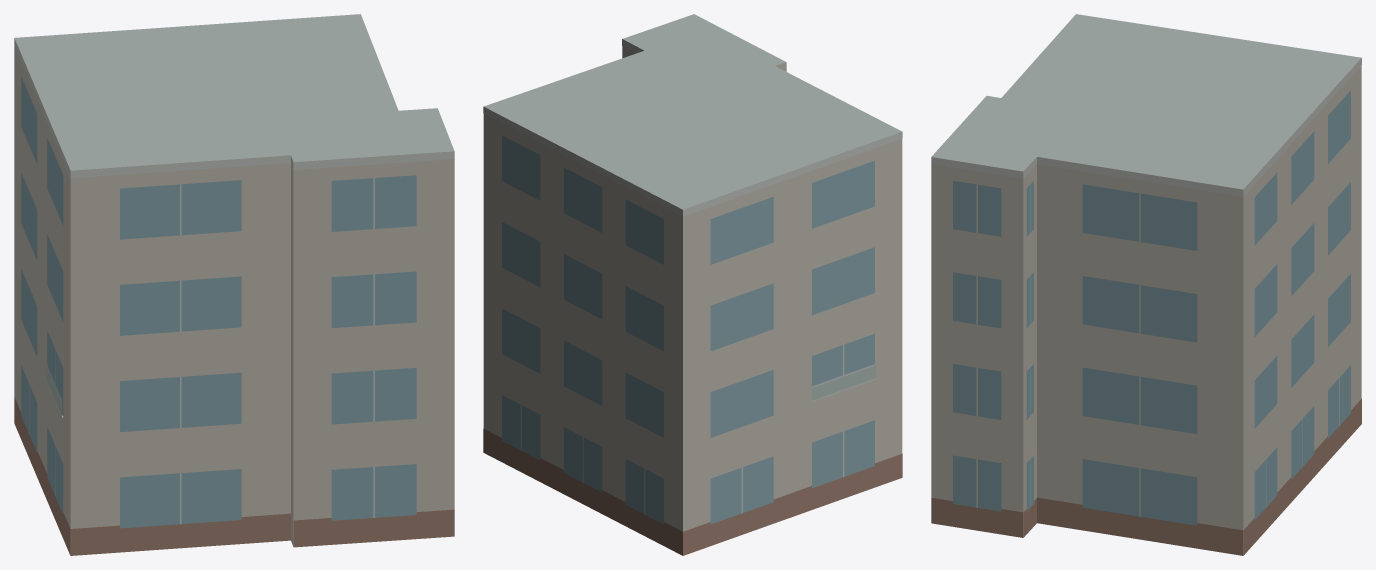
The model's file is survey-upis-32668390.glb.
The picture shows the model from 3 angles, left to right: view 1: azimuth 30°, elevation 25°; view 2: azimuth 150°, elevation 25°; view 3: azimuth 270°, elevation 25°; orthographic projection. The views are drawn at different scales.
Parts seen in each view (by area): view 1: survey-upis-32668390.tmp; view 2: survey-upis-32668390.tmp; view 3: survey-upis-32668390.tmp.
Part boxes in pixels (left/top/right/bottom): survey-upis-32668390.tmp: left=14, top=14, right=454, bottom=555; survey-upis-32668390.tmp: left=483, top=14, right=902, bottom=555; survey-upis-32668390.tmp: left=931, top=14, right=1361, bottom=555.
Bounding box in the file's own units: 12.55 × 12.2 × 13.
